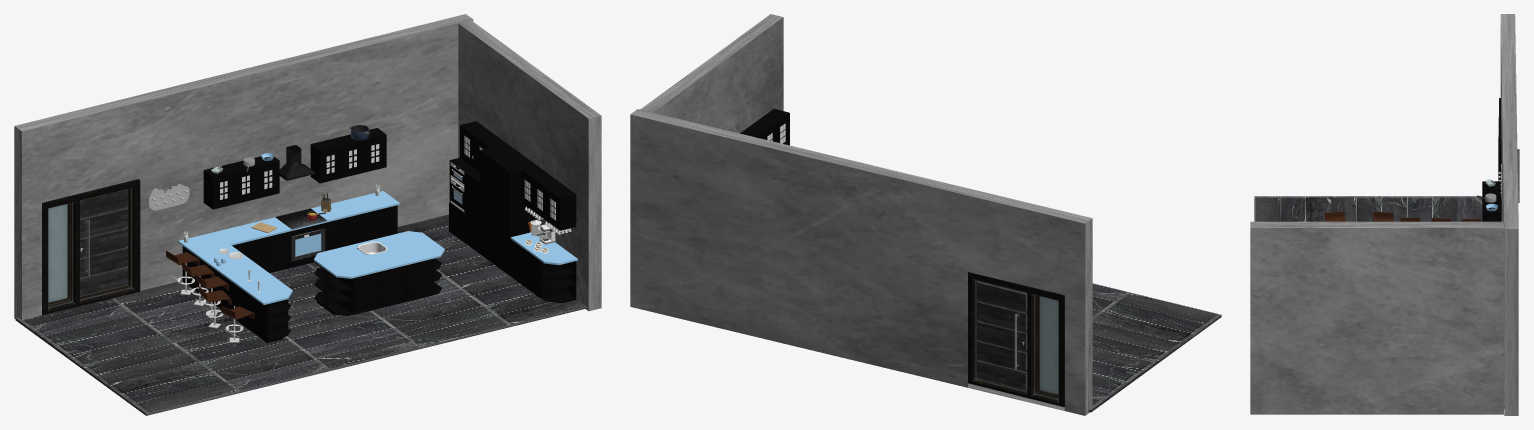
Rendered from scene_Kitchen.gltf.
3 renders of one model, left to right at view 1: azimuth 30°, elevation 25°; view 2: azimuth 150°, elevation 25°; view 3: azimuth 270°, elevation 25°, orthographic. The views are drawn at different scales.
Parts seen in each view (by area): view 1: Cube.001, Cube.003, Wood_Flooring, Cube.002, door, stone, Glass, Leather_Dark_Brown, oven, Object_3, extractor, cookTop; view 2: Cube.001, door, Cube.002, Cube.003, Wood_Flooring; view 3: Cube.002, Cube.001, Cube.003, Leather_Dark_Brown, Wood_Flooring, door.
Boxes of the visible parts, <box> form: Cube.001: <box>14,14,473,320</box>; Cube.003: <box>15,214,586,415</box>; Wood_Flooring: <box>182,121,576,342</box>; Cube.002: <box>458,20,601,311</box>; door: <box>42,179,140,314</box>; stone: <box>178,191,577,304</box>; Glass: <box>183,135,571,292</box>; Leather_Dark_Brown: <box>166,251,254,319</box>; oven: <box>291,228,325,261</box>; Object_3: <box>149,184,189,210</box>; extractor: <box>279,145,314,180</box>; cookTop: <box>275,208,326,229</box>; Cube.001: <box>630,109,1092,415</box>; door: <box>968,272,1064,406</box>; Cube.002: <box>640,14,783,133</box>; Cube.003: <box>1088,283,1221,412</box>; Wood_Flooring: <box>740,109,789,145</box>; Cube.002: <box>1250,221,1503,414</box>; Cube.001: <box>1500,14,1518,415</box>; Cube.003: <box>1254,196,1504,408</box>; Leather_Dark_Brown: <box>1325,211,1481,221</box>; Wood_Flooring: <box>1482,181,1500,221</box>; door: <box>1498,98,1519,221</box>.
Size of the model in its own units: 22.08 by 8.91 by 11.63.
